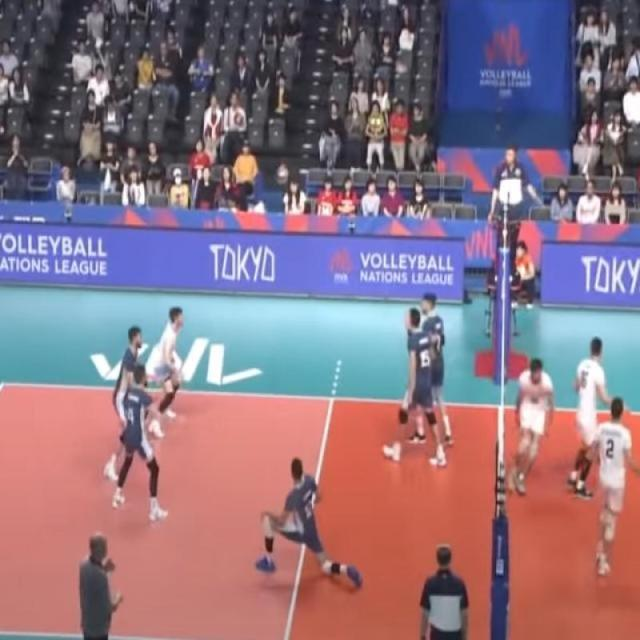volleyball: (367, 110, 385, 134)
